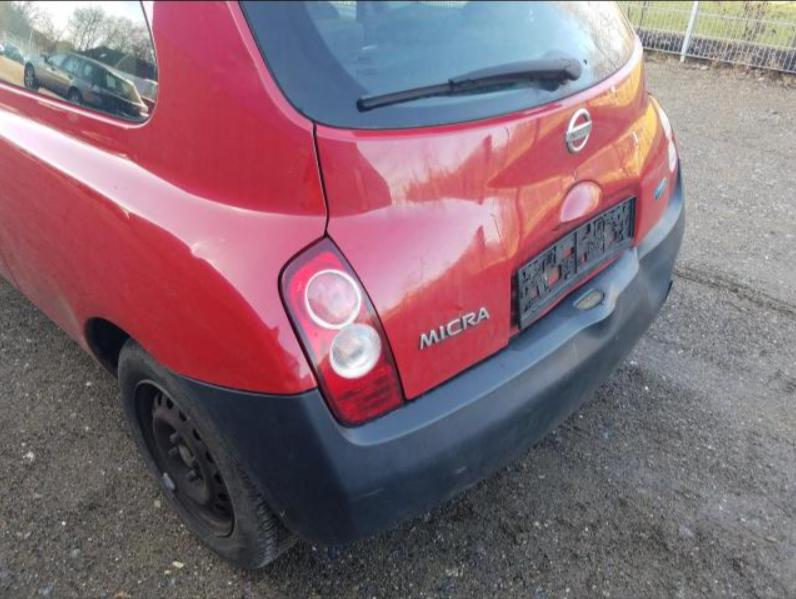Dent: (471, 109, 646, 334), (628, 242, 674, 313)
Missing part: (520, 202, 631, 323)
Scratch: (346, 486, 386, 502), (454, 465, 467, 474)
